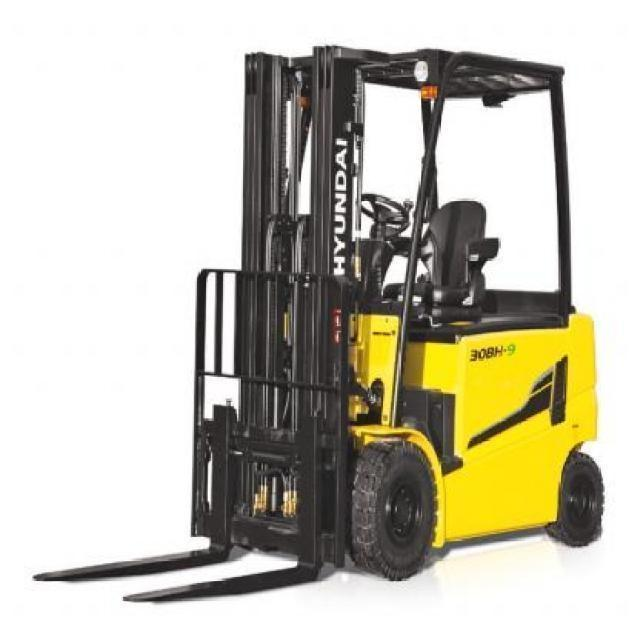forklift: (16, 39, 605, 605)
